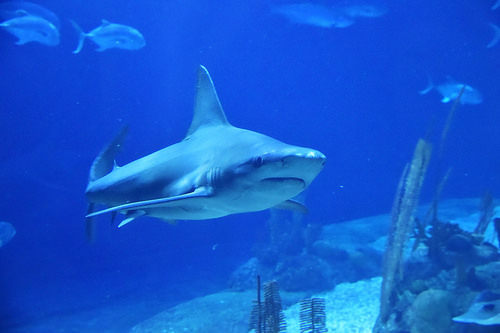shark: (59, 66, 332, 255)
